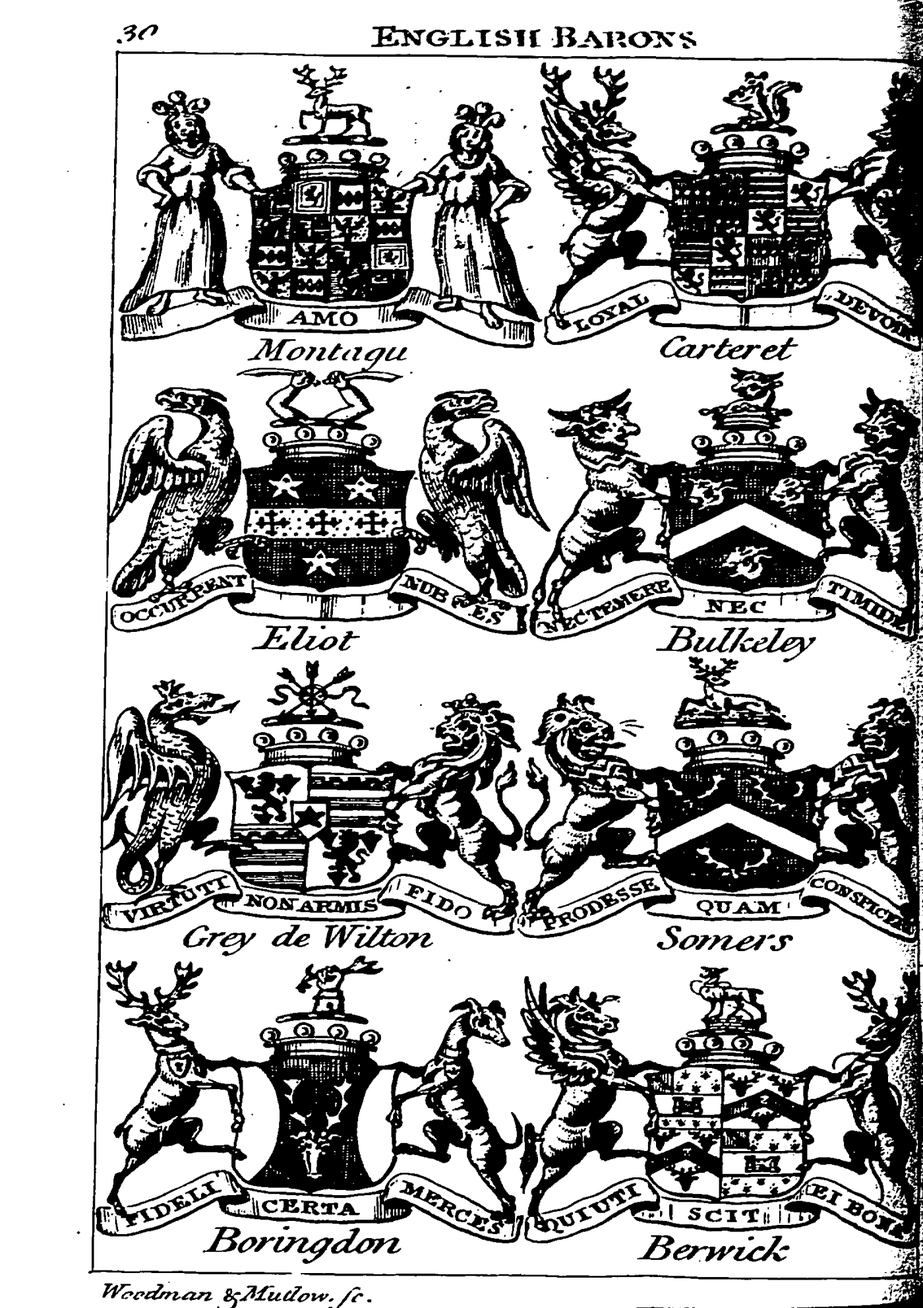coat_of_arms: (133, 60, 539, 367), (106, 959, 514, 1264), (518, 963, 922, 1270), (115, 664, 516, 957), (132, 371, 527, 666), (518, 671, 922, 959), (531, 360, 913, 664), (541, 63, 923, 363)
